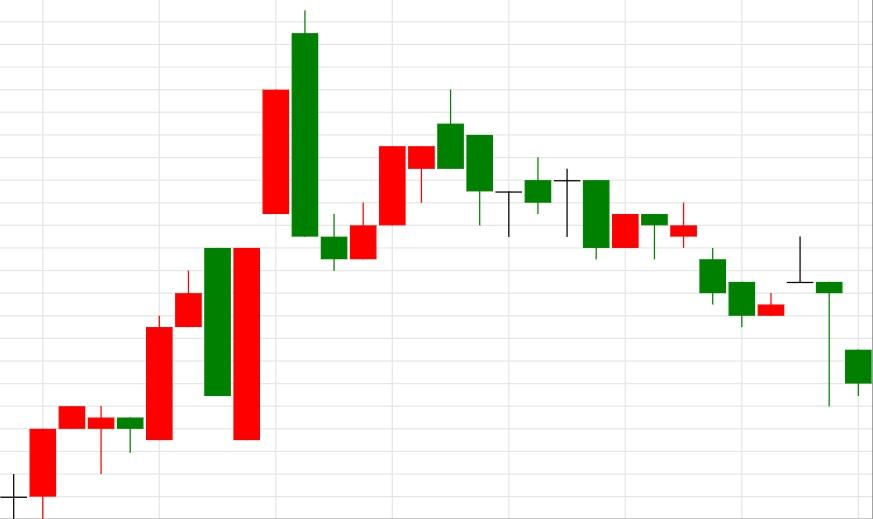bearish_engulfing_fall: (146, 10, 318, 440)
